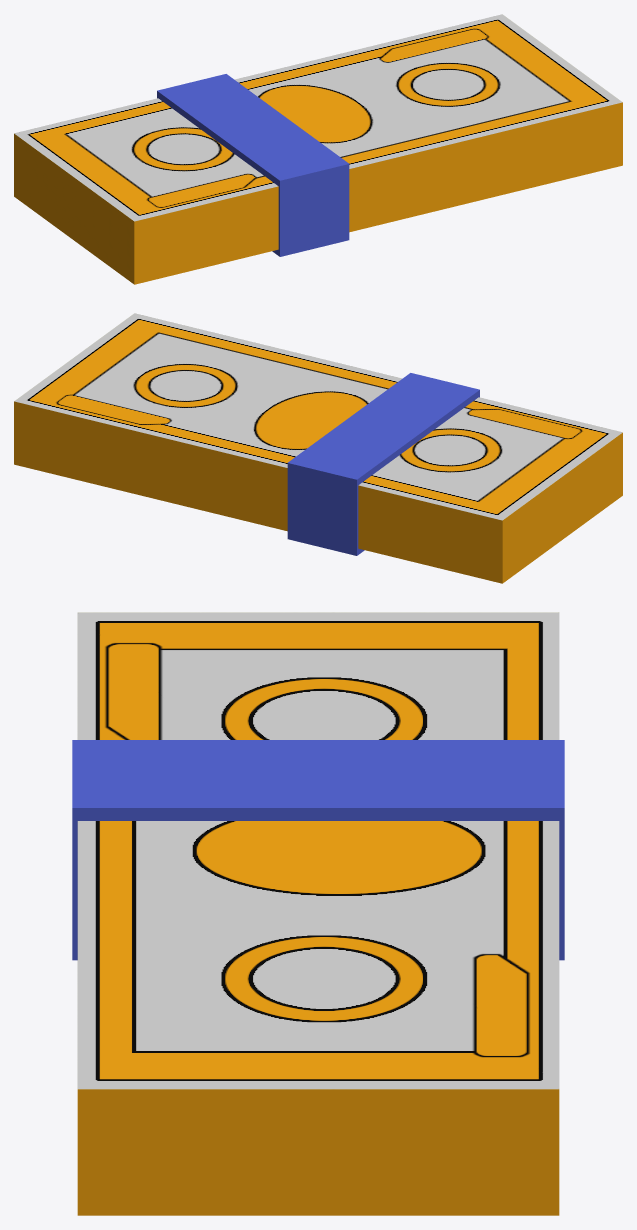
File: ScripStackModel.glb
The picture shows the model from 3 angles, top to bottom: view 1: azimuth 30°, elevation 25°; view 2: azimuth 150°, elevation 25°; view 3: azimuth 270°, elevation 25°; orthographic projection. The views are drawn at different scales.
Parts seen in each view (by area): view 1: ScripStack, RubberBand; view 2: ScripStack, RubberBand; view 3: ScripStack, RubberBand.
Boxes of the visible parts, x1,y1,x2,y2 form: ScripStack: (14, 14, 622, 284); RubberBand: (157, 74, 349, 256); ScripStack: (14, 313, 622, 583); RubberBand: (287, 373, 479, 555); ScripStack: (77, 612, 559, 1215); RubberBand: (72, 740, 564, 960).
Bounding box in the file's own units: 5.01 × 0.7471 × 2.19.
2 materials, 1 textured.
